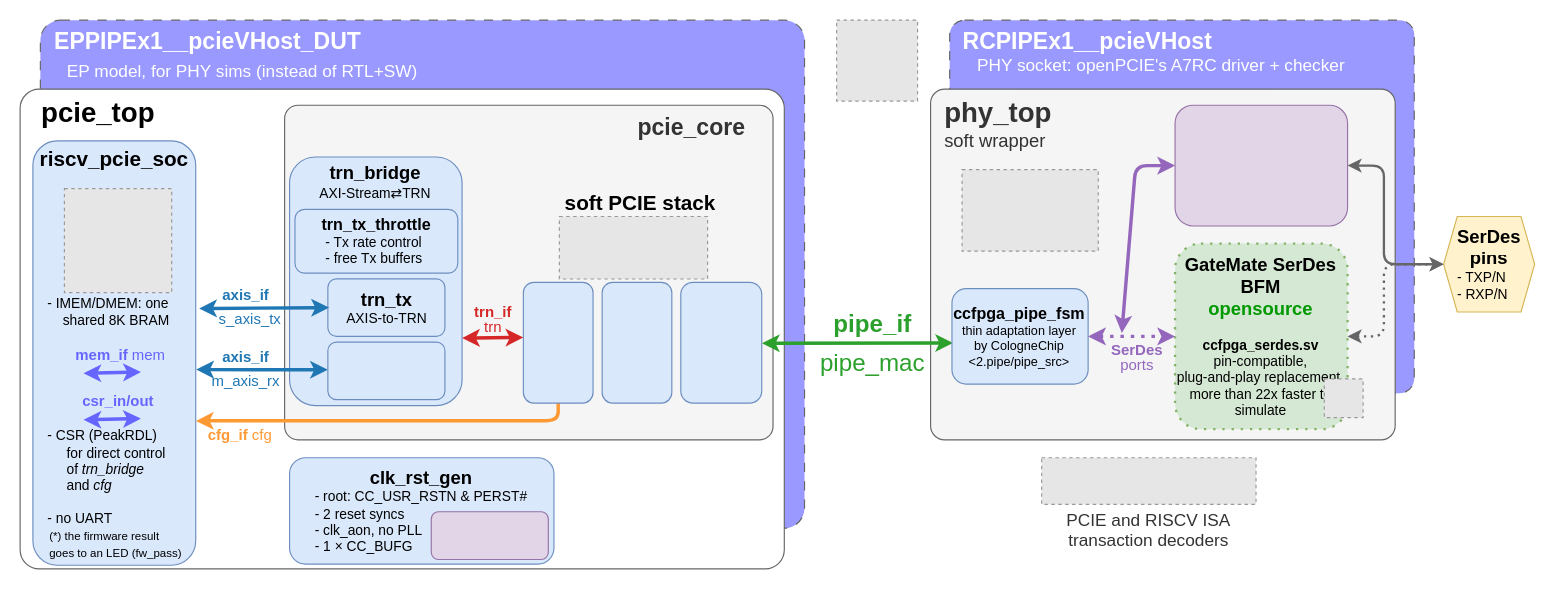
The diagram is 1555 pixels wide and 590 high, and some of its shapes have lost their labels. Grey dashed boxes stand in for pictures. Each missing label, with the centre of its shape:
CC_BUFG <GateMate HM>: [489,535]
CC_SERDES <GateMate HM> proprietary complete design at RTL level. Closed-source: [1261,165]
DLL Data Link Layer: [636,342]
MAC LTSSM: [721,342]
TL Transaction Layer: [557,342]
trn_rx TRN-to-AXIS: [386,370]
